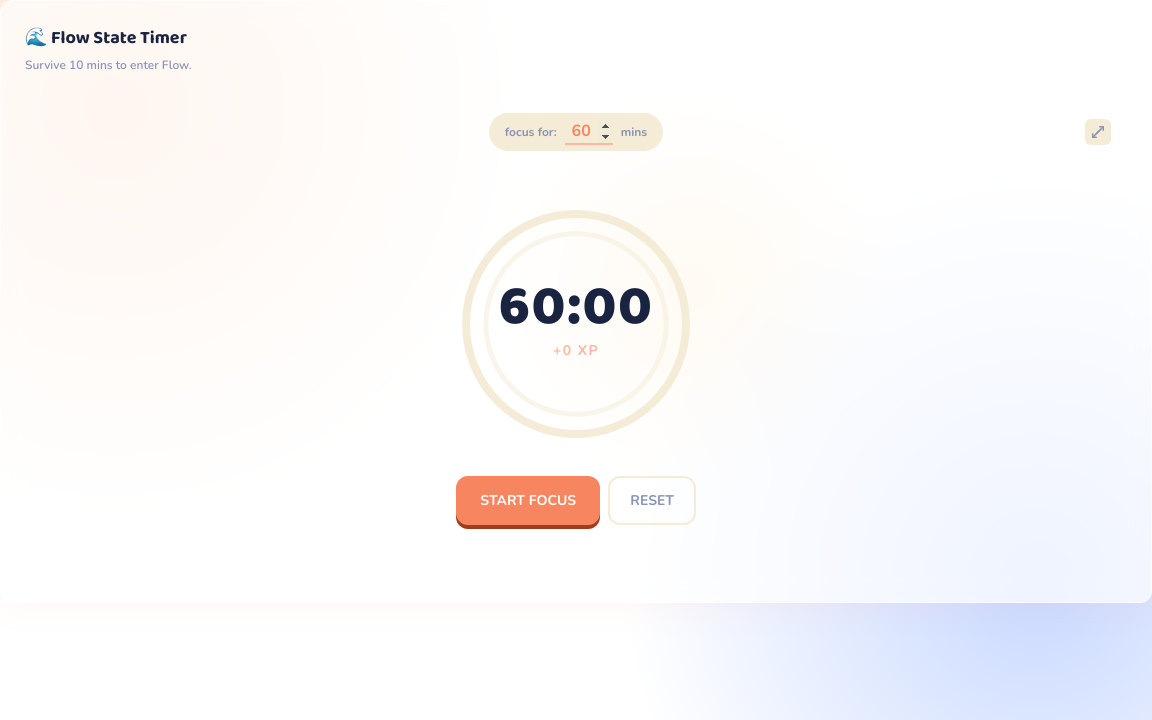
Test: FocusTimer Component › shows confirm modal when "I got distracted" is clicked
The width and height of the screenshot is (1152, 720).
Click the button "START FOCUS".
click(528, 500)  # box [456,476,600,525]
Wait 60000 ms
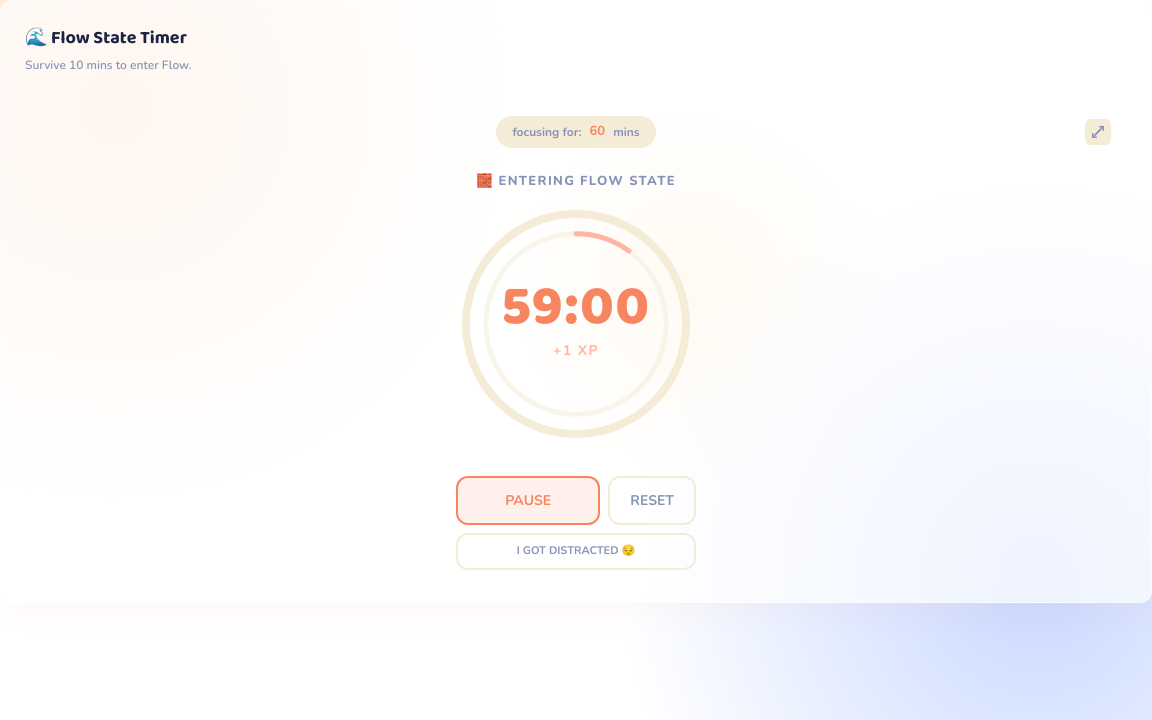
Click the button "I got distracted 😔".
click(576, 551)  # box [456,533,696,570]
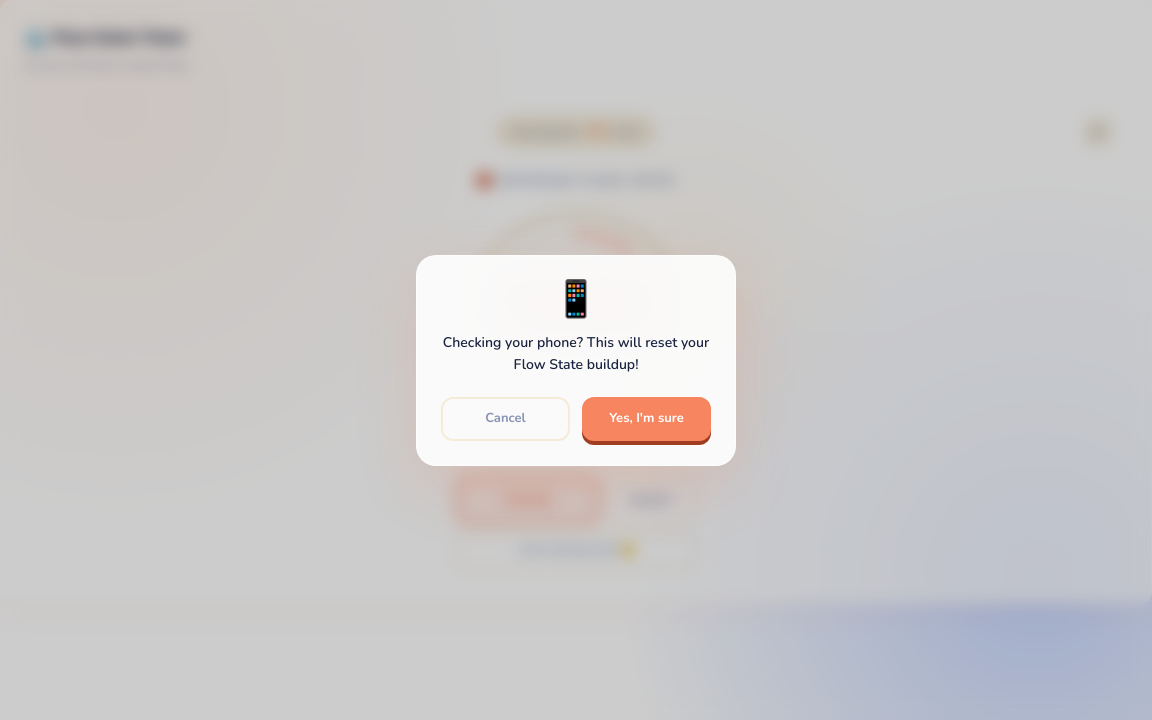
Expected: the text "Checking your phone? This will reset your Flow State buildup!" is shown, [441,332,711,377]
Expected: the button "Yes, I'm sure" is shown, [582,397,711,440]
Expected: the button "Cancel" is shown, [441,397,570,440]
